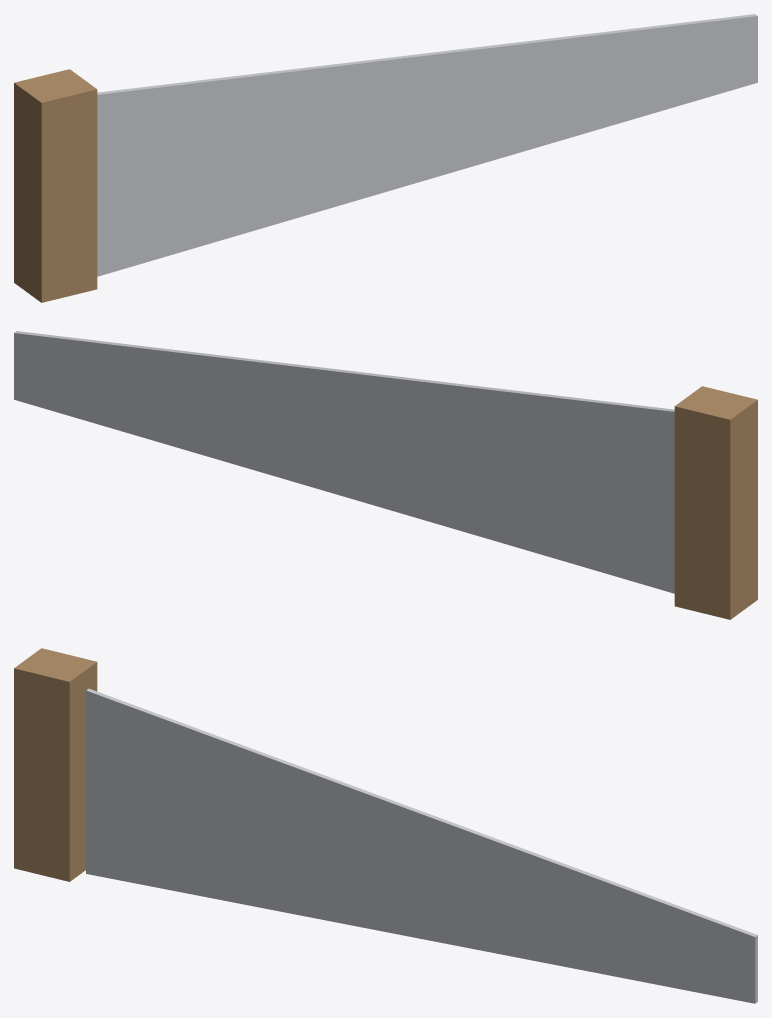
File: serrote.glb
The picture shows the model from 3 angles, top to bottom: view 1: azimuth 30°, elevation 25°; view 2: azimuth 150°, elevation 25°; view 3: azimuth 330°, elevation 25°; orthographic projection.
Parts seen in each view (by area): view 1: serrote; view 2: serrote; view 3: serrote.
Part boxes in pixels (<box>): serrote: <box>14,14,757,302</box>; serrote: <box>14,331,757,619</box>; serrote: <box>14,648,757,1003</box>.
Size of the model in its own units: 0.4575 by 0.12 by 0.03.
